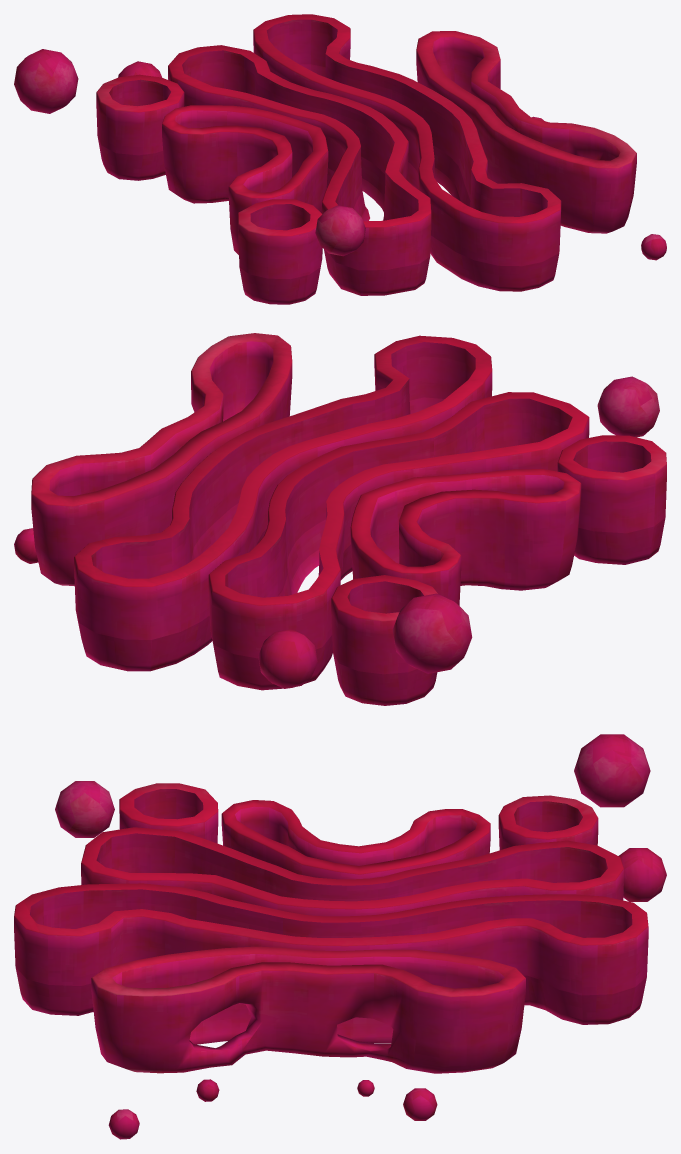
File: golji.glb
The picture shows the model from 3 angles, top to bottom: view 1: azimuth 30°, elevation 25°; view 2: azimuth 150°, elevation 25°; view 3: azimuth 270°, elevation 25°; orthographic projection. The views are drawn at different scales.
Visible parts, largest first — view 1: Plane; view 2: Plane; view 3: Plane.
Part boxes in pixels (left/top/right/bottom): Plane: left=14, top=14, right=666, bottom=304; Plane: left=14, top=333, right=666, bottom=705; Plane: left=14, top=734, right=666, bottom=1139.
Size of the model in its own units: 7.15 by 2.32 by 7.79.
Materials: 1 (1 with a texture image).
